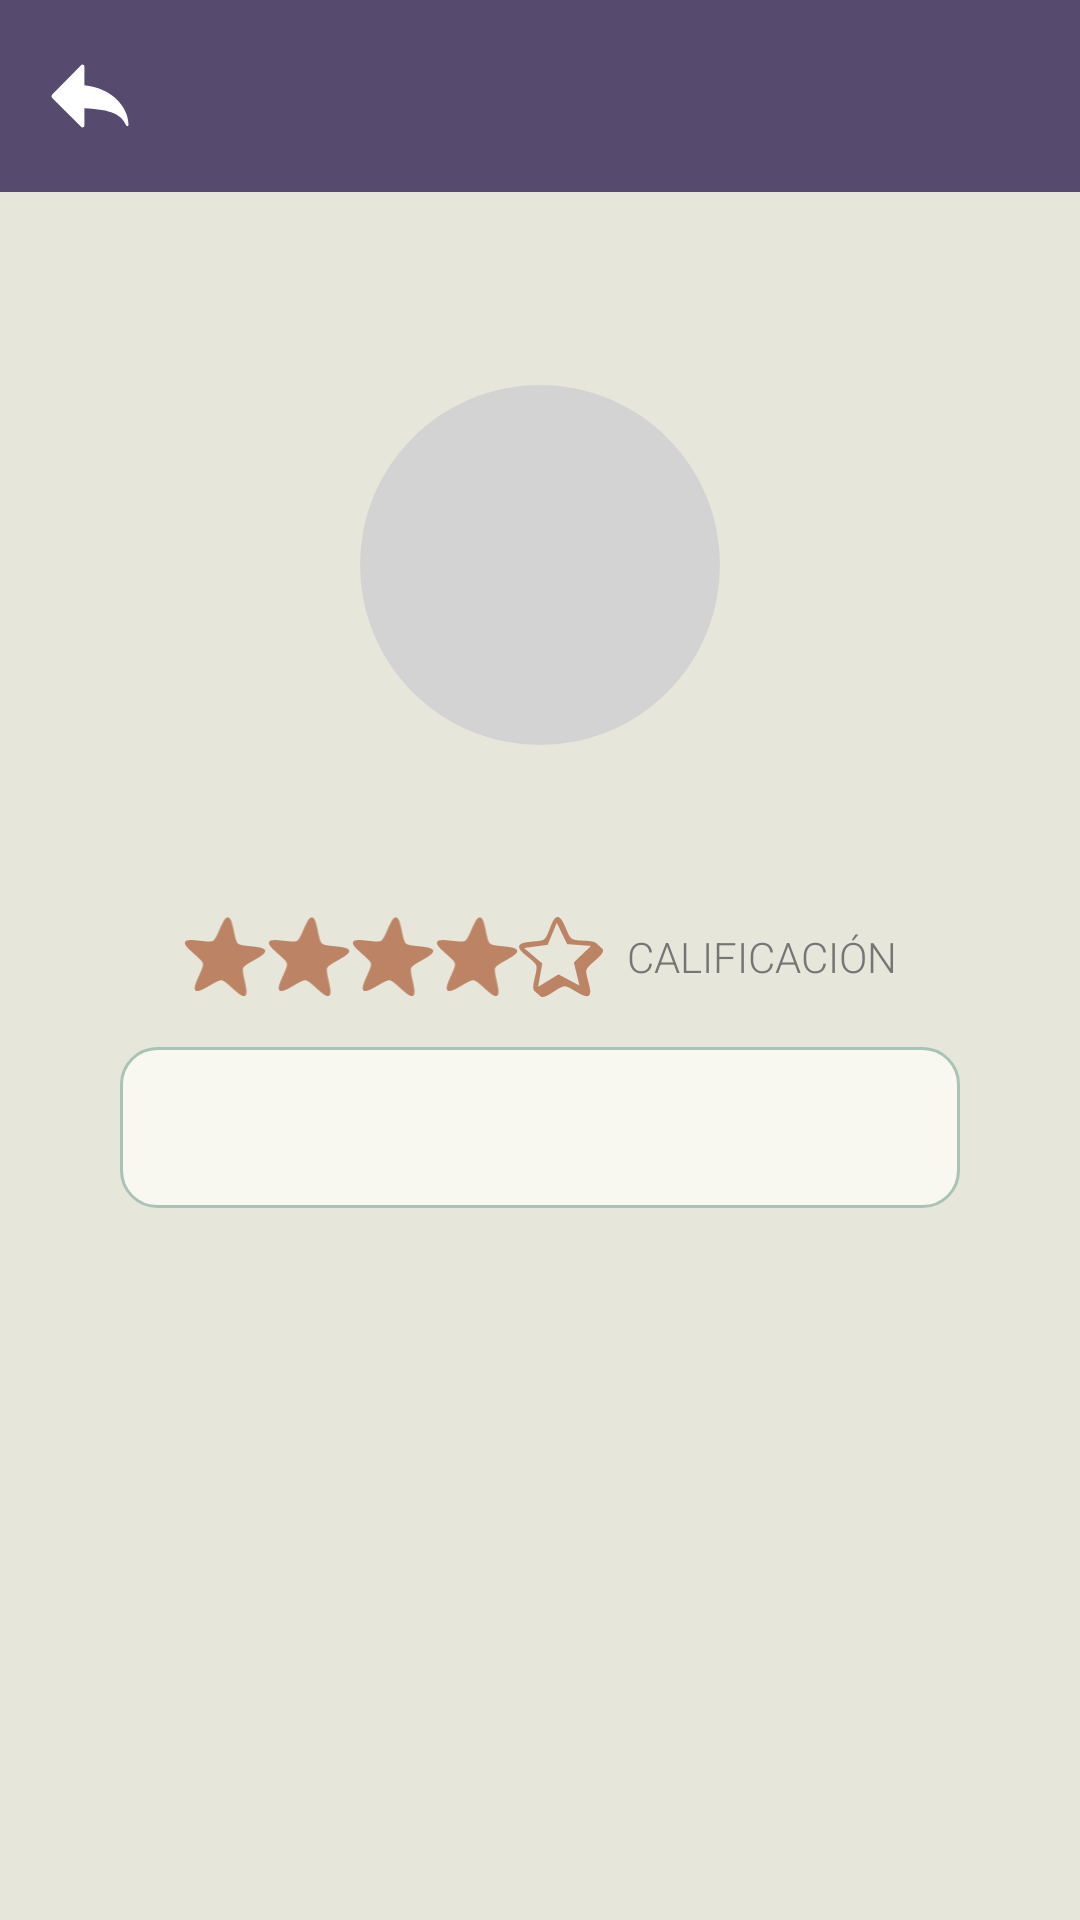

Where icons sit on this 1080×1920 app screen, as (left=x1, top=y1, right=x2, bottom=y2):
star: (left=185, top=917, right=265, bottom=996), (left=269, top=917, right=349, bottom=996), (left=353, top=917, right=433, bottom=996), (left=437, top=917, right=517, bottom=996)
star empty: (left=519, top=917, right=603, bottom=997)
Volver atrás: (left=51, top=64, right=129, bottom=128)
